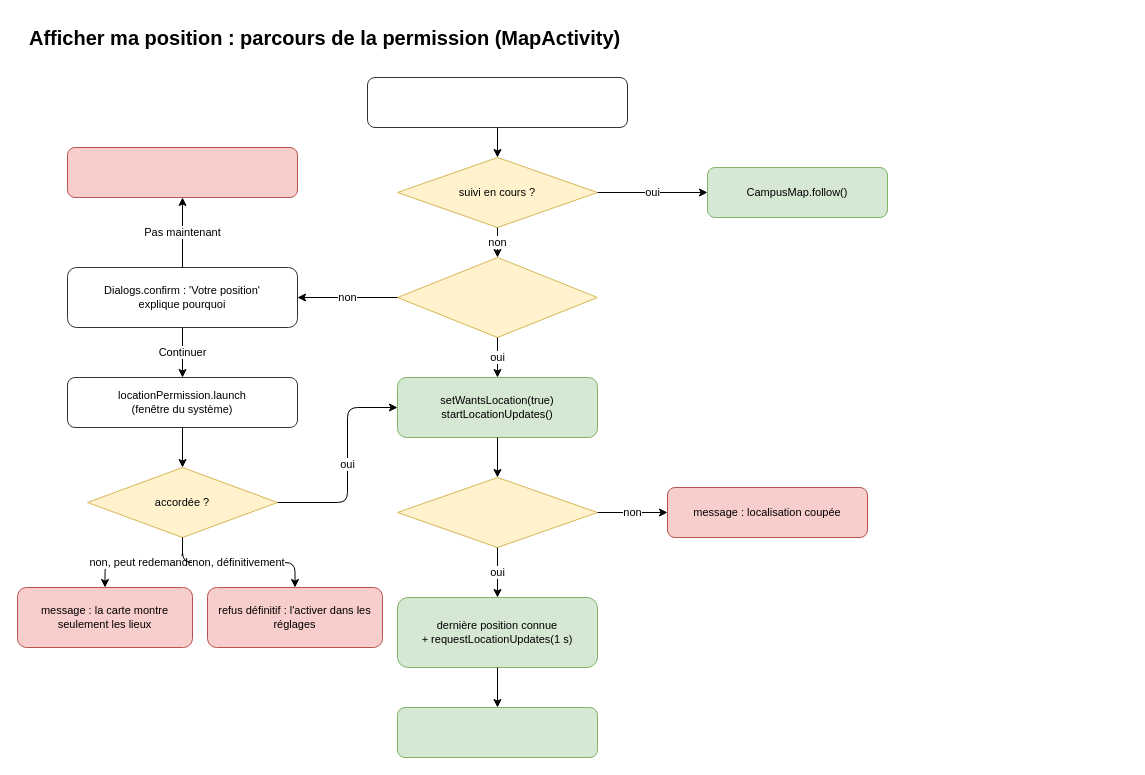
The diagram is 1145 pixels wide and 775 high, and some of its shapes have lost their labels. Each missing label, with the box of its shape:
GPS ou réseau actif ?: (396, 476, 598, 548)
onUiLocation -> CampusMap.showUser: (396, 706, 598, 758)
Pas maintenant : la carte montre les lieux: (66, 146, 298, 198)
permission accordée ? (FINE ou COARSE): (396, 256, 598, 338)
touche le bouton de position: (366, 76, 628, 128)
